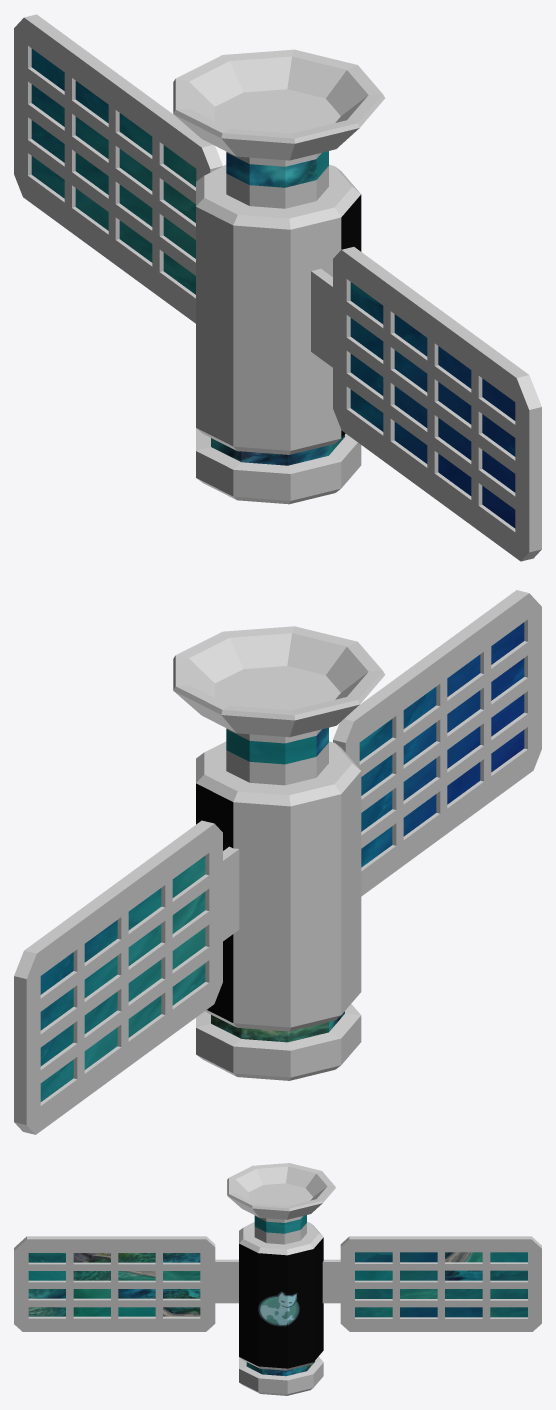
Rendered from satellite.glb.
3 views of the same model, one above another, from view 1: azimuth 30°, elevation 25°; view 2: azimuth 150°, elevation 25°; view 3: azimuth 270°, elevation 25° (orthographic). The views are drawn at different scales.
Parts seen in each view (by area): view 1: Cylinder; view 2: Cylinder; view 3: Cylinder.
Part boxes in pixels (<box>): Cylinder: <box>14,14,541,561</box>; Cylinder: <box>14,590,541,1134</box>; Cylinder: <box>14,1163,541,1395</box>.
Size of the model in its own units: 2.53 by 4.89 by 12.08.
3 materials, 2 textured.
